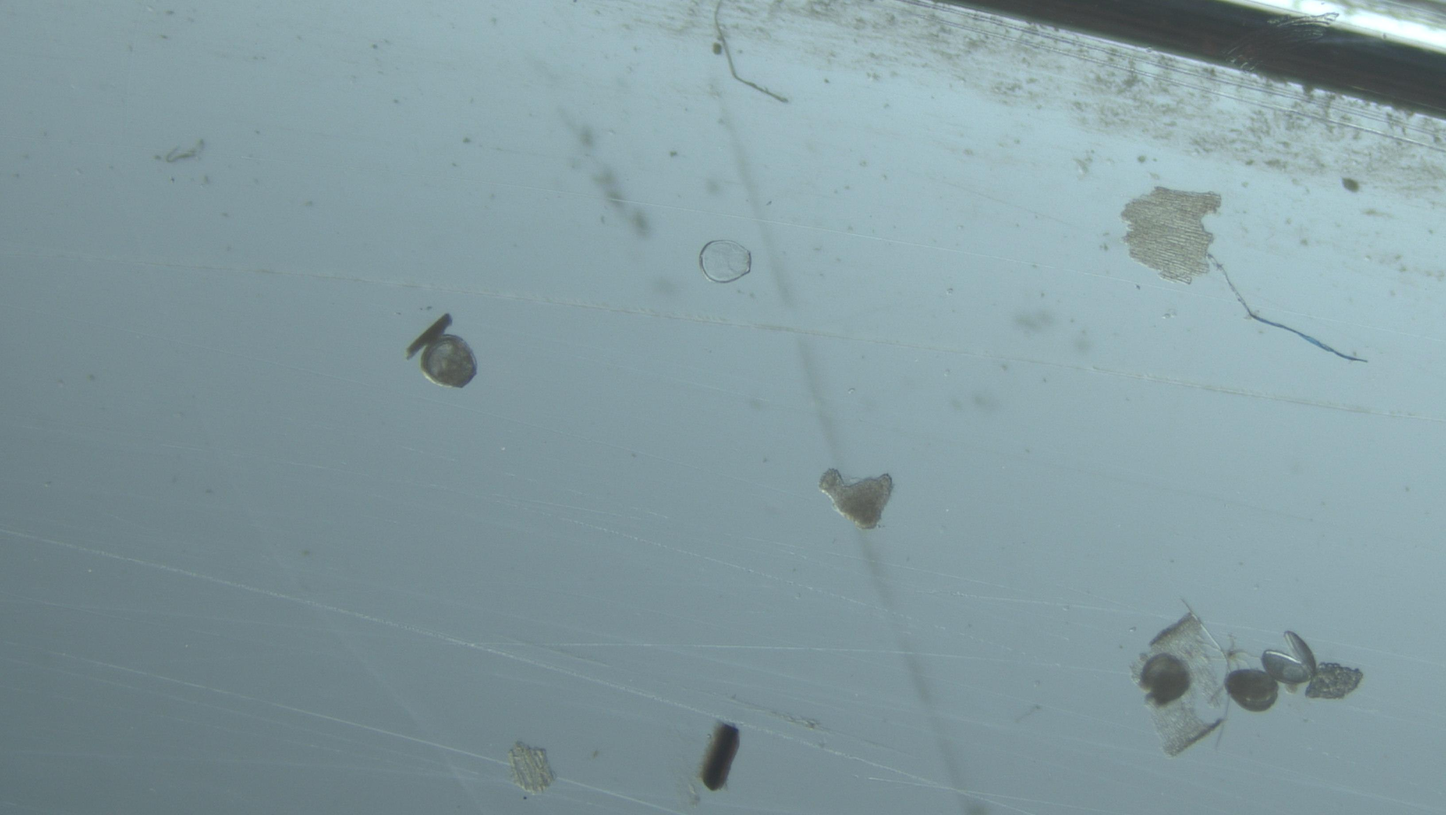dead: (699, 241, 751, 283)
live: (420, 334, 477, 388), (1140, 653, 1191, 705), (1225, 669, 1278, 712)
